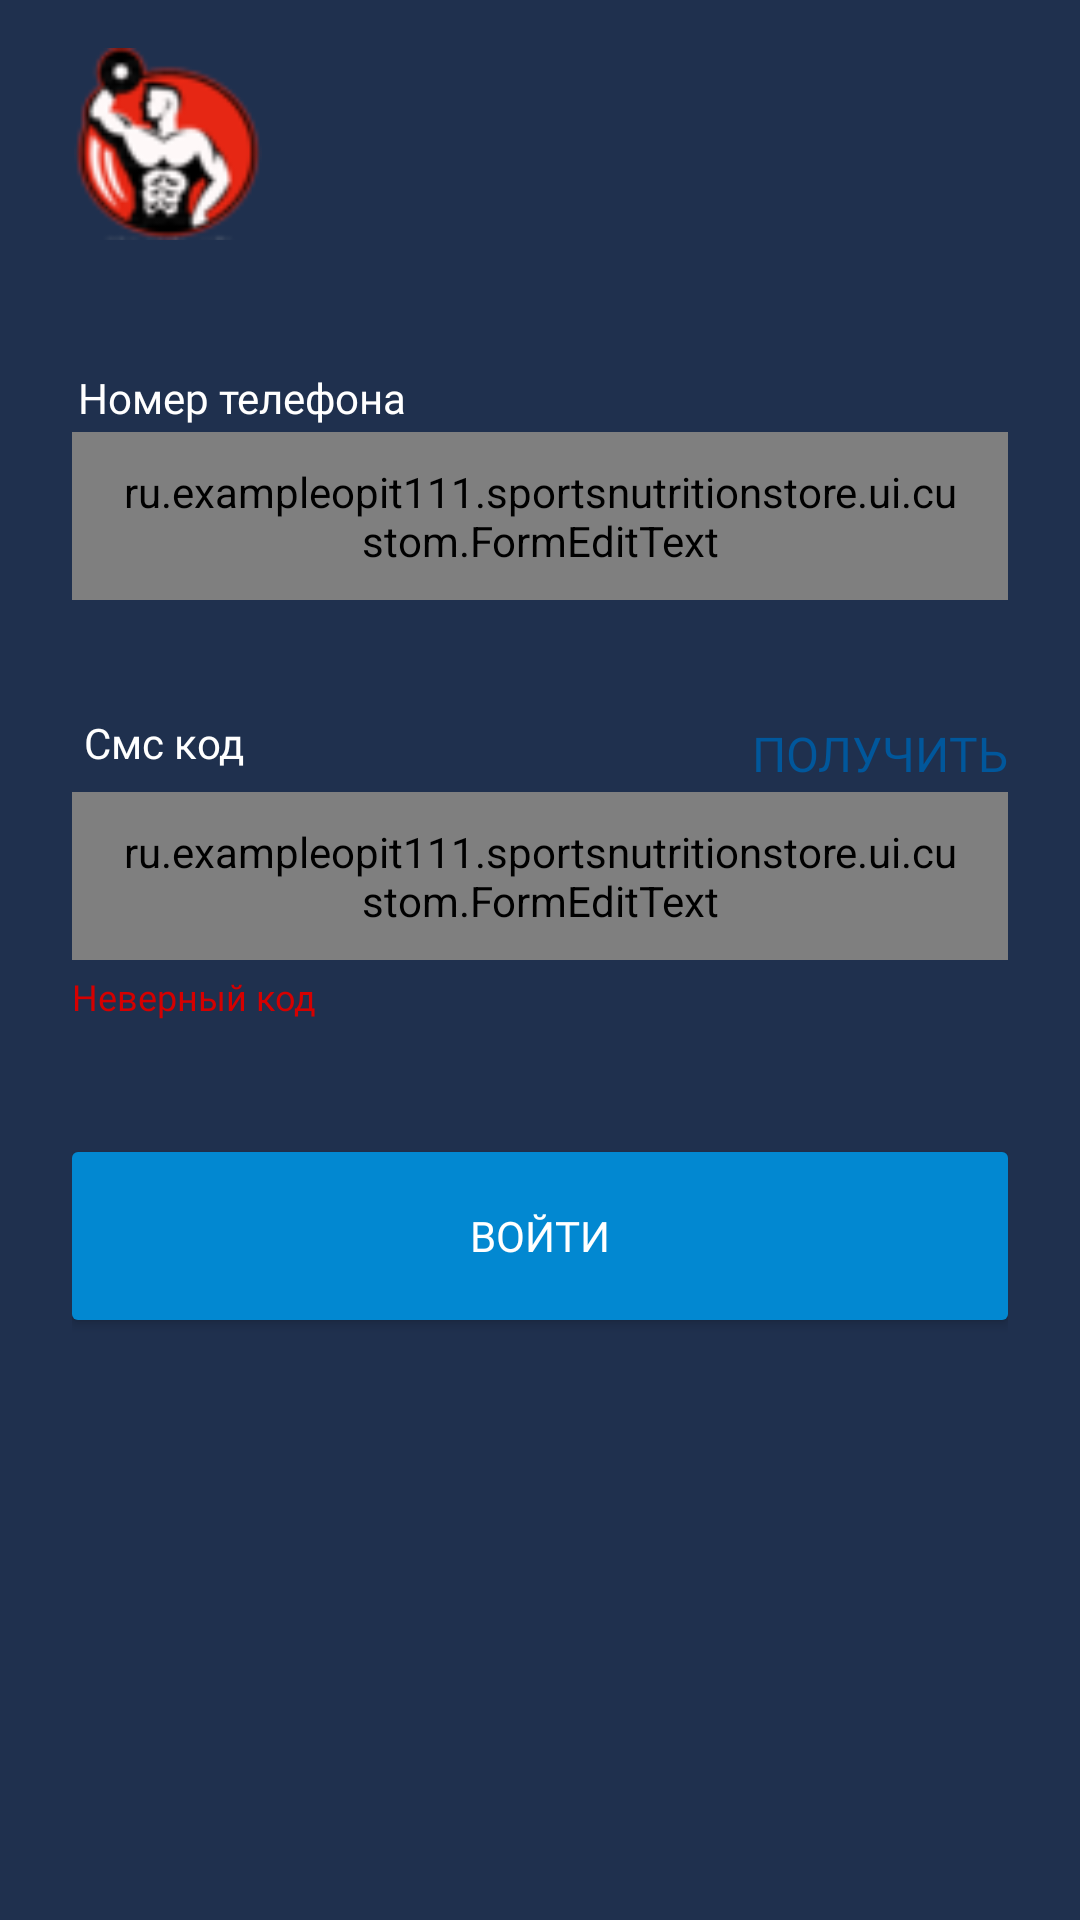

Where icons sit on this 1080 x 1920 app screen, as (x1, y1, x2, y2):
body profile: (77, 48, 259, 240)
